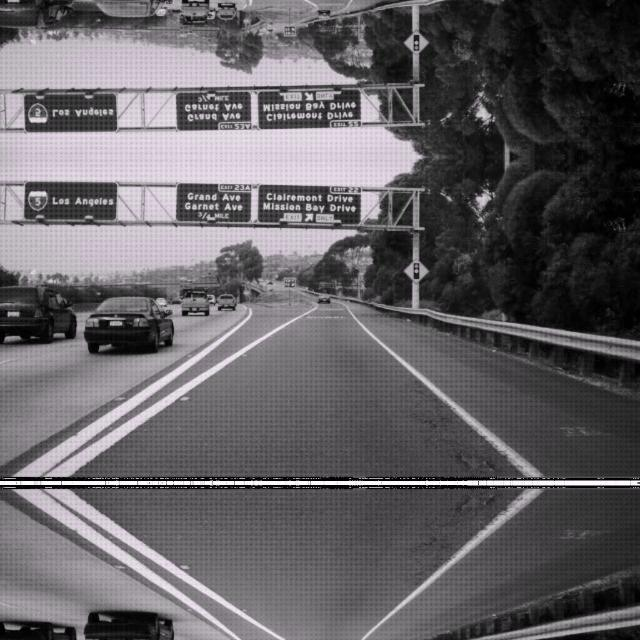signalAhead: (402, 256, 430, 282), (402, 30, 430, 56)
